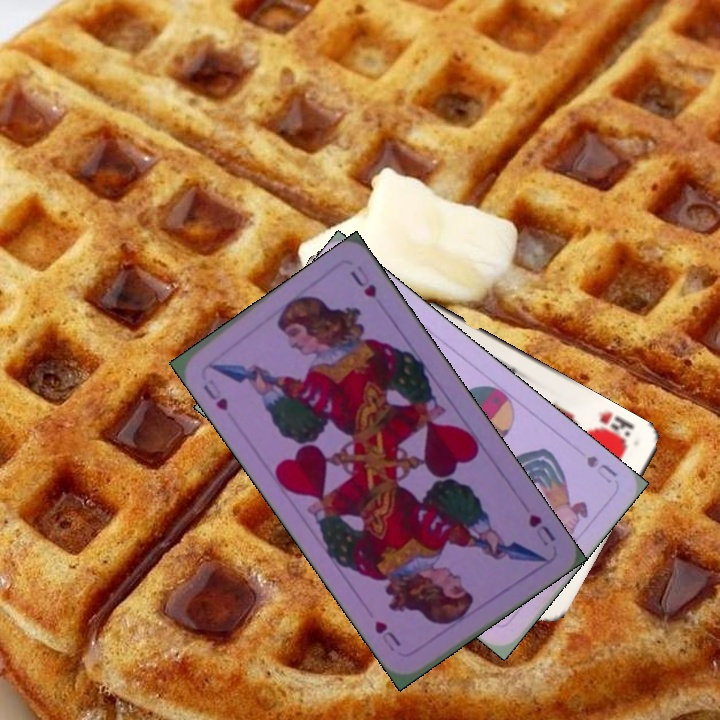HK: (591, 408, 638, 449)
HU: (524, 509, 559, 549), (198, 374, 231, 414)
SU: (582, 451, 620, 487)
